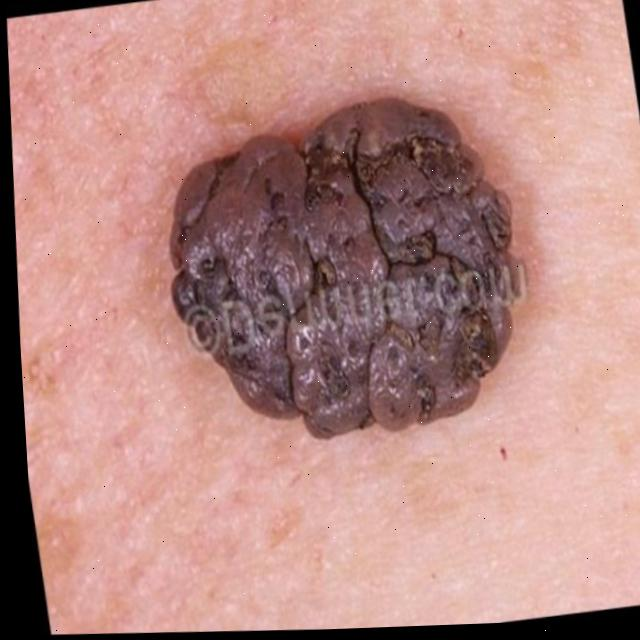Eczema: (156, 105, 533, 467)
